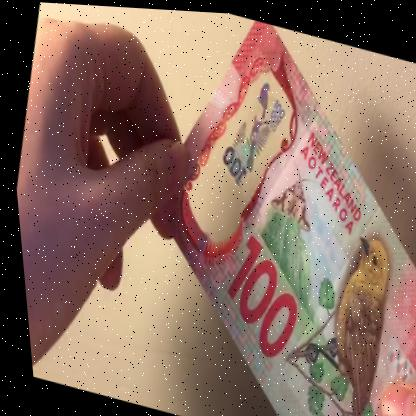100B: (207, 63, 299, 199)
